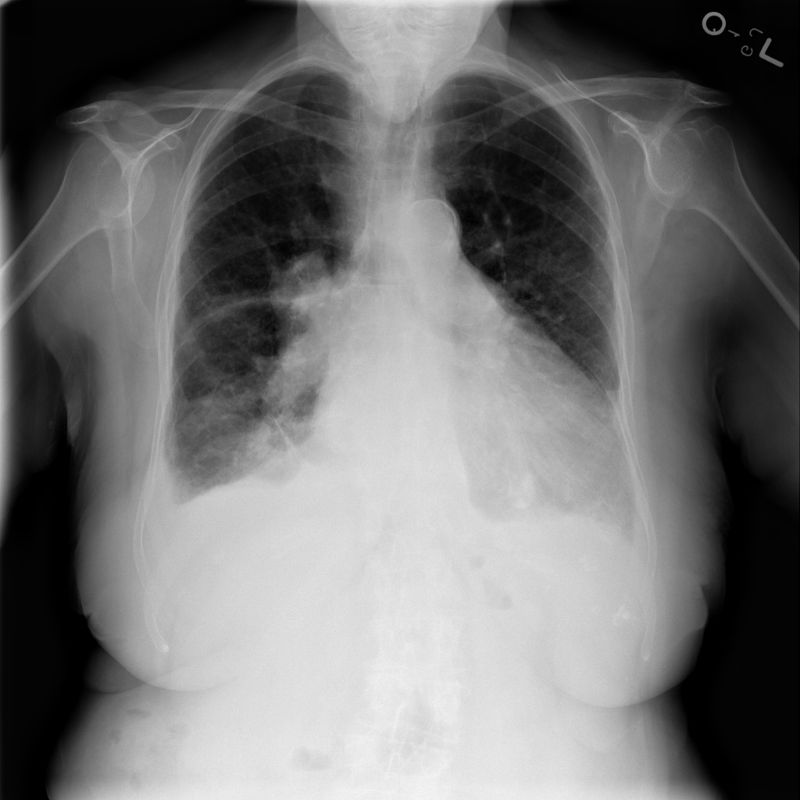PLEURAL EFFUSION: (573, 381, 636, 568), (132, 455, 203, 565)
